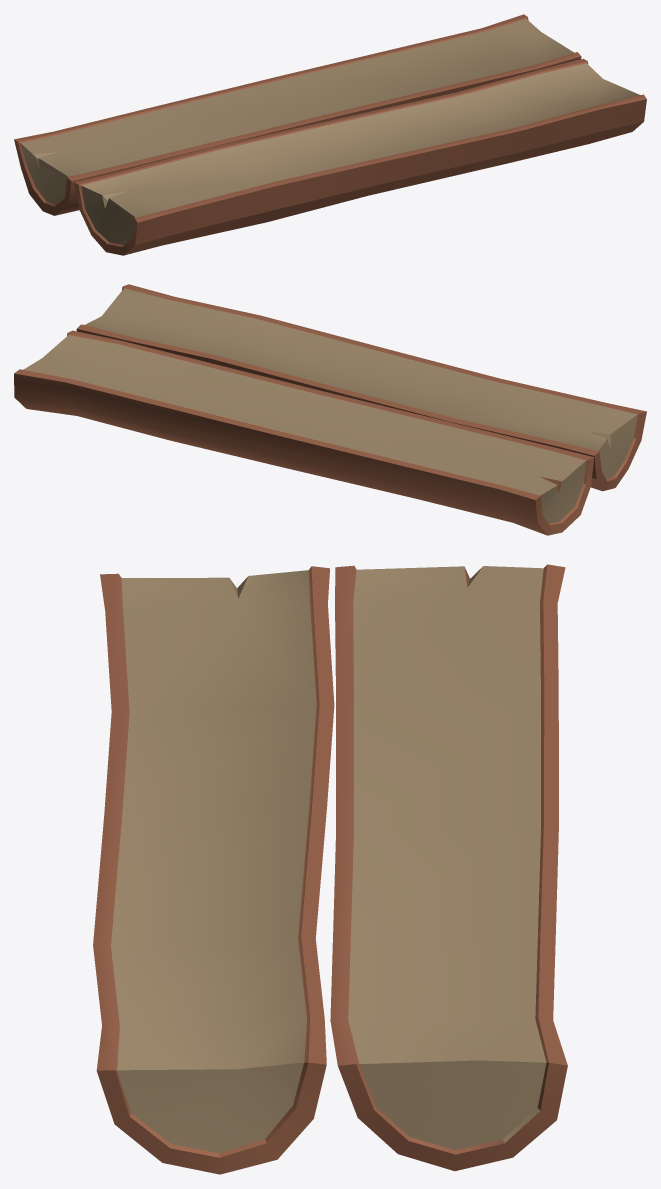
File: LightWoodFloorMedium2BeamPlatform1.fbx
The picture shows the model from 3 angles, top to bottom: view 1: azimuth 30°, elevation 25°; view 2: azimuth 150°, elevation 25°; view 3: azimuth 270°, elevation 25°; orthographic projection. The views are drawn at different scales.
Visible parts, largest first — view 1: LightWoodFloorMedium2BeamPlatform1; view 2: LightWoodFloorMedium2BeamPlatform1; view 3: LightWoodFloorMedium2BeamPlatform1.
Part boxes in pixels (box(x1,y1,x2,y2)): LightWoodFloorMedium2BeamPlatform1: box(14, 14, 646, 255); LightWoodFloorMedium2BeamPlatform1: box(14, 284, 646, 535); LightWoodFloorMedium2BeamPlatform1: box(93, 564, 567, 1174).
Bounding box in the file's own units: 508 × 49.59 × 201.
